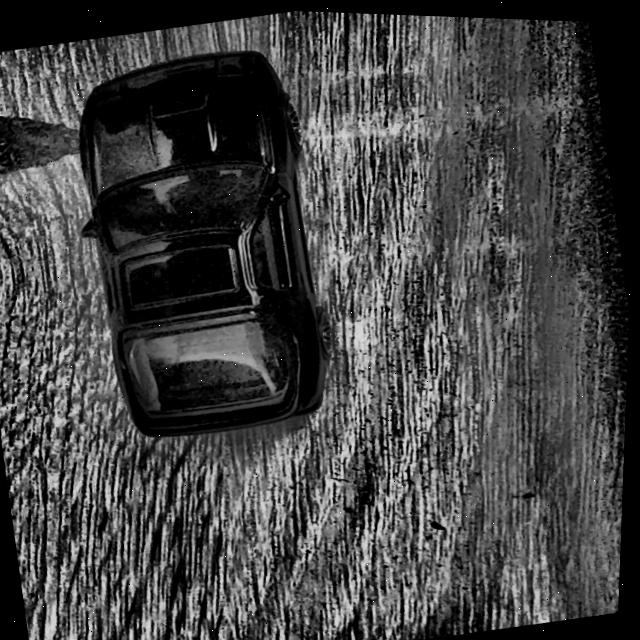car: (49, 33, 359, 453)
